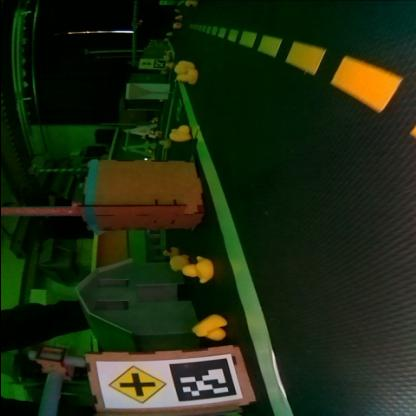Duckie: (192, 316, 226, 342), (184, 258, 212, 284), (169, 126, 188, 142), (177, 70, 196, 84), (168, 257, 186, 271), (163, 248, 176, 258), (157, 141, 169, 150), (184, 1, 196, 7), (172, 23, 180, 30), (173, 16, 181, 20)
Intersection sign: (104, 364, 164, 407)
QR code: (171, 357, 235, 403), (152, 61, 164, 68)
Signal sign: (138, 61, 150, 68)
